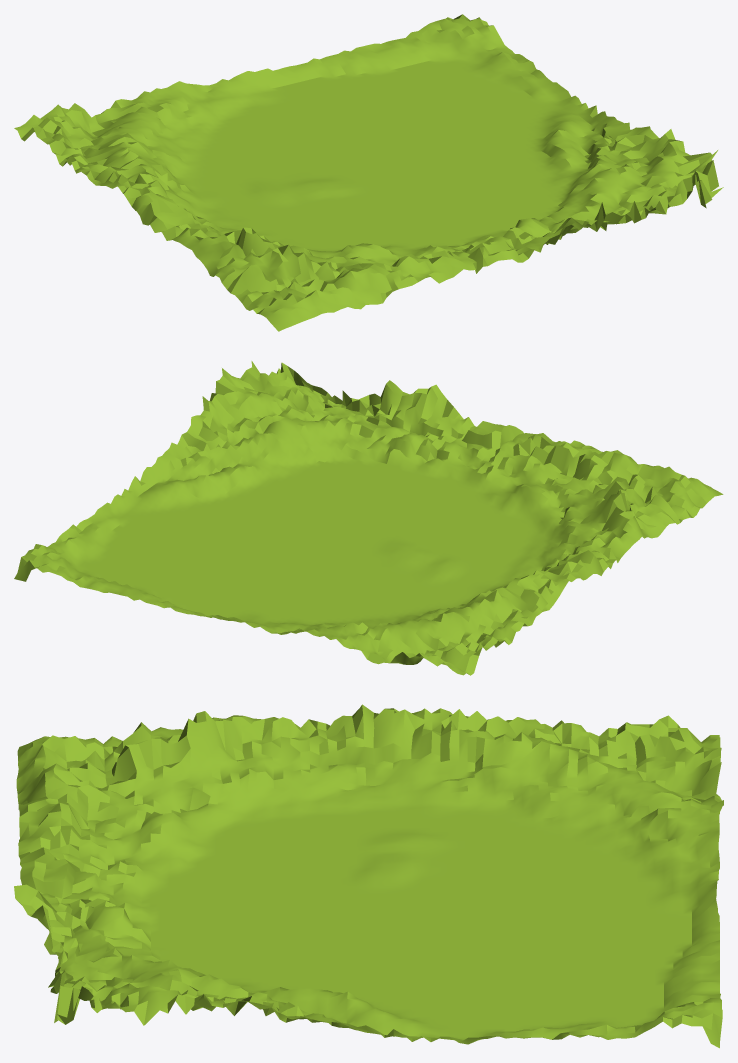
Rendered from _terrain.fbx.
3 renders of one model, top to bottom at view 1: azimuth 30°, elevation 25°; view 2: azimuth 150°, elevation 25°; view 3: azimuth 270°, elevation 25°, orthographic. The views are drawn at different scales.
Parts seen in each view (by area): view 1: Plane; view 2: Plane; view 3: Plane.
Boxes of the visible parts, bbox=[...] form: Plane: bbox=[14, 14, 723, 331]; Plane: bbox=[14, 361, 723, 675]; Plane: bbox=[14, 704, 723, 1048].
Size of the model in its own units: 2241 by 215 by 2164.
